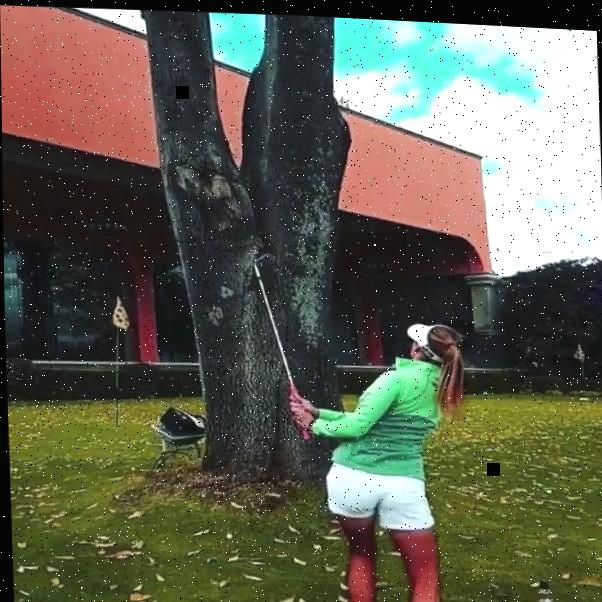ClubHead: (255, 247, 272, 263)
